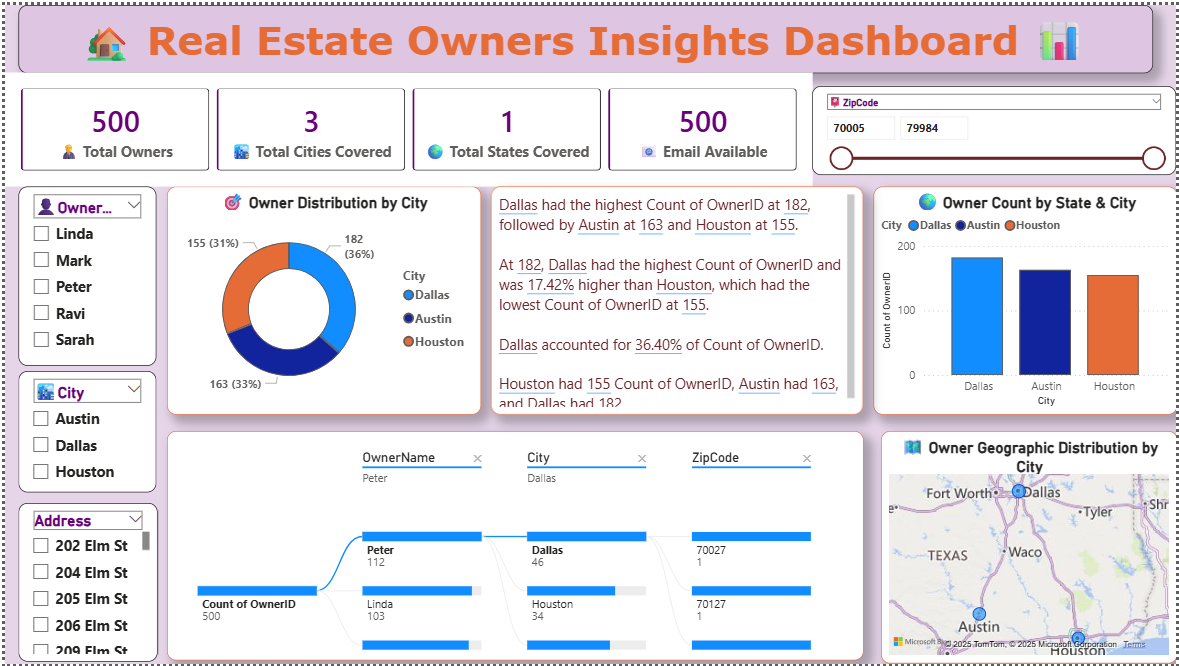

What the dashboard file says about the page in this screenshot:
{"tool":"powerbi","page":{"name":"Owners Insights","canvas":[1280,720],"ordinal":5},"visuals":[{"type":"textbox","box":[14.6,0,1240.3,74.5],"z":0},{"type":"map","title":"🗺️ Owner Geographic Distribution by City","fields":{"Category":["Owners.City","Owners.State"],"Size":["CountNonNull(Owners.OwnerID)"]},"box":[957,466.3,323.8,254.2],"z":1000},{"type":"slicer","fields":{"Values":["Owners.City"]},"box":[14.6,399.9,150.6,132.8],"z":2000},{"type":"columnChart","title":"🌍 Owner Count by State & City","fields":{"Category":["Owners.City"],"Series":["Owners.City"],"Y":["CountNonNull(Owners.OwnerID)"]},"box":[948.9,199.2,331.9,249.4],"z":3000},{"type":"donutChart","title":"🎯 Owner Distribution by City","fields":{"Category":["Owners.City"],"Y":["Count(Owners.OwnerID)"]},"box":[176.5,199.2,343.3,249.4],"z":4000},{"type":"cardVisual","fields":{"Data":["CountNonNull(Owners.OwnerID)","Count(Owners.City)","Count(Owners.State)","Count(Owners.Email)"]},"box":[0,74.5,882.5,124.7],"z":5000},{"type":"slicer","fields":{"Values":["Owners.ZipCode"]},"box":[882.5,89.1,398.3,97.2],"z":6000},{"type":"slicer","fields":{"Values":["Owners.OwnerName"]},"box":[14.6,199.2,150.6,195.9],"z":7000},{"type":"decompositionTreeVisual","title":"🧠 Owner Count Breakdown by Owner Name→ City → Zipcode","fields":{"Analyze":["CountNonNull(Owners.OwnerID)"],"ExplainBy":["Owners.OwnerName","Owners.City","Owners.ZipCode"]},"box":[176.5,466.3,761,251],"z":8000},{"type":"slicer","fields":{"Values":["Owners.Address"]},"box":[14.6,544.1,152.2,173.3],"z":9000},{"type":"textbox","box":[531.1,199.2,406.4,249.4],"z":10000}]}

Visuals, with their boxes in screenshot pixels (x1, y1, x2, y2), scaled from the page's 1280x720 canvas onto the 1179x666 screenshot:
textbox: rect(13, 0, 1156, 69)
"🗺️ Owner Geographic Distribution by City" map: rect(881, 431, 1178, 665)
slicer - Owners.City: rect(13, 370, 152, 493)
"🌍 Owner Count by State & City" columnChart: rect(874, 184, 1178, 415)
"🎯 Owner Distribution by City" donutChart: rect(163, 184, 479, 415)
cardVisual - CountNonNull(Owners.OwnerID) x Count(Owners.City): rect(0, 69, 813, 184)
slicer - Owners.ZipCode: rect(813, 82, 1178, 172)
slicer - Owners.OwnerName: rect(13, 184, 152, 365)
"🧠 Owner Count Breakdown by Owner Name→ City → Zipcode" decompositionTreeVisual: rect(163, 431, 864, 664)
slicer - Owners.Address: rect(13, 503, 154, 664)
textbox: rect(489, 184, 864, 415)
